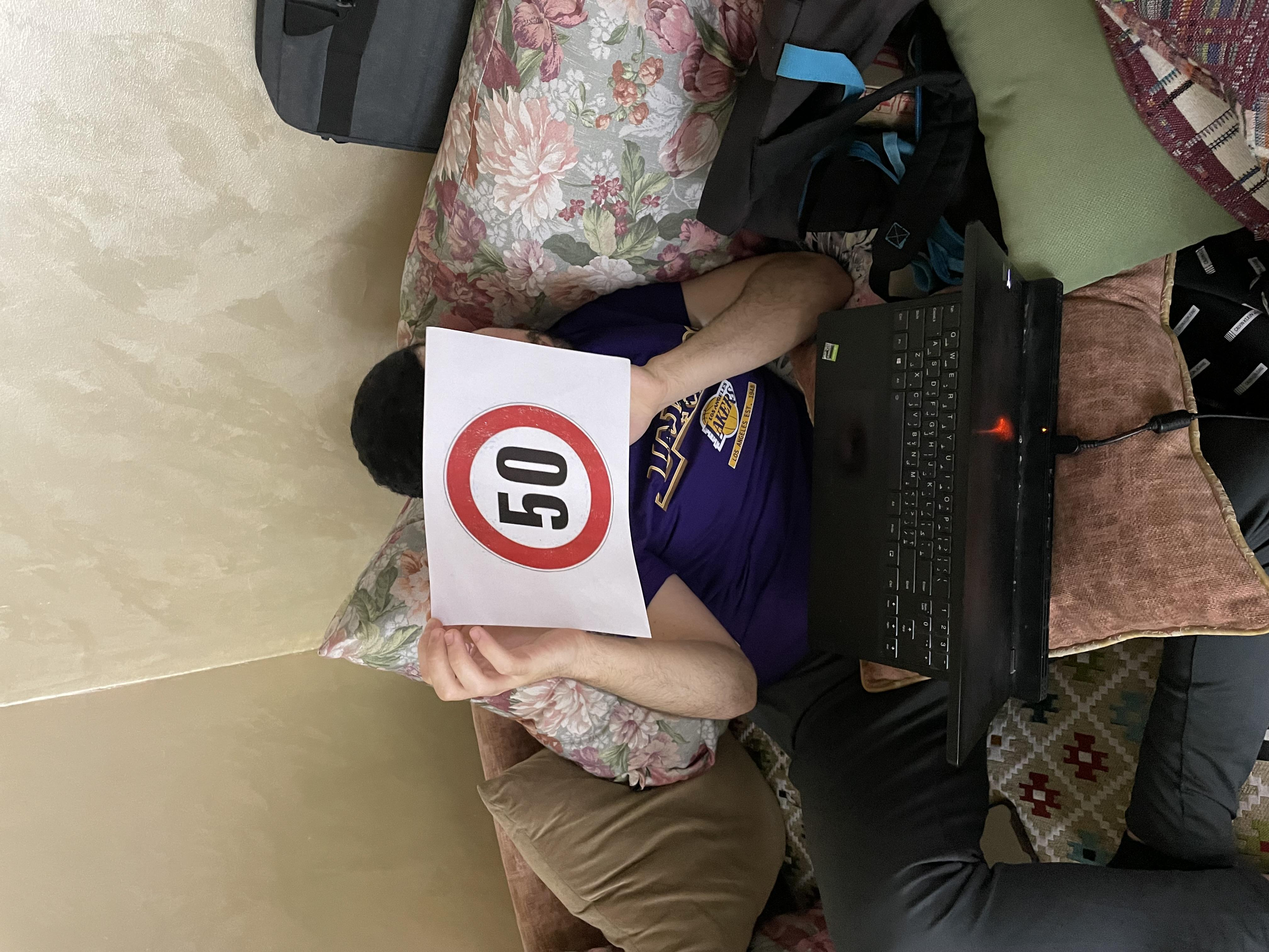50-Speed: (513, 329, 741, 468)
